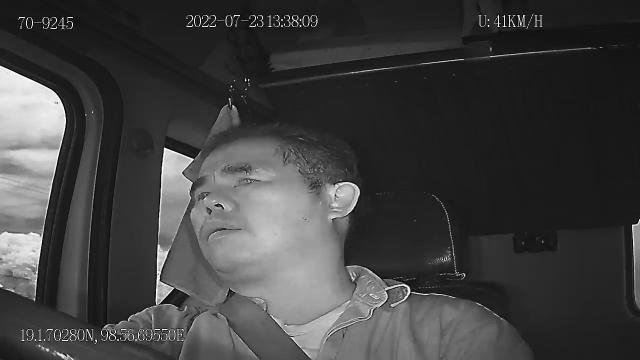SafeDriving: (223, 156, 272, 192)
Seatbelt: (220, 292, 314, 360)
